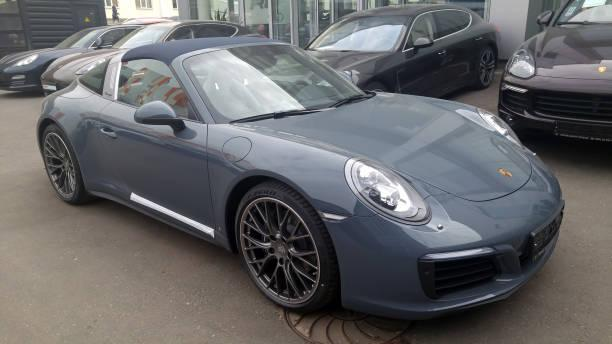porsche: (493, 164, 519, 182)
